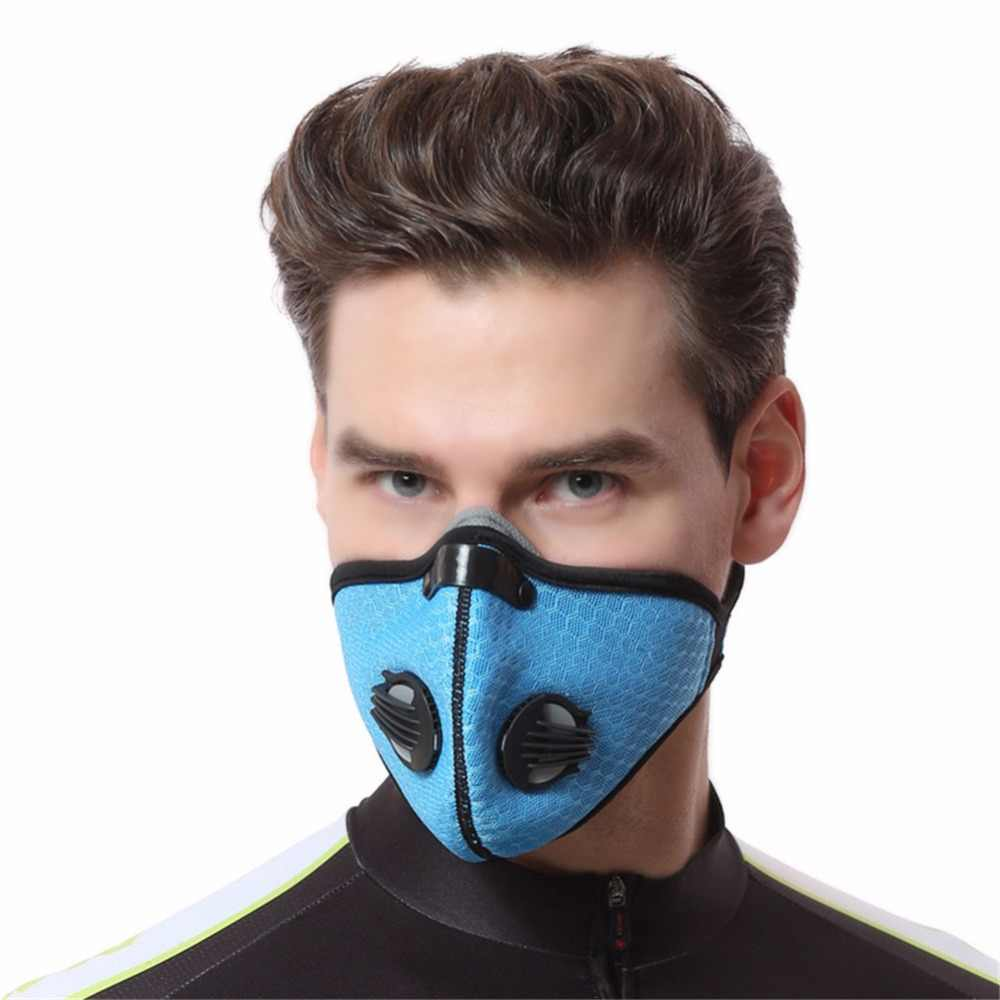mask: (343, 565, 745, 866)
